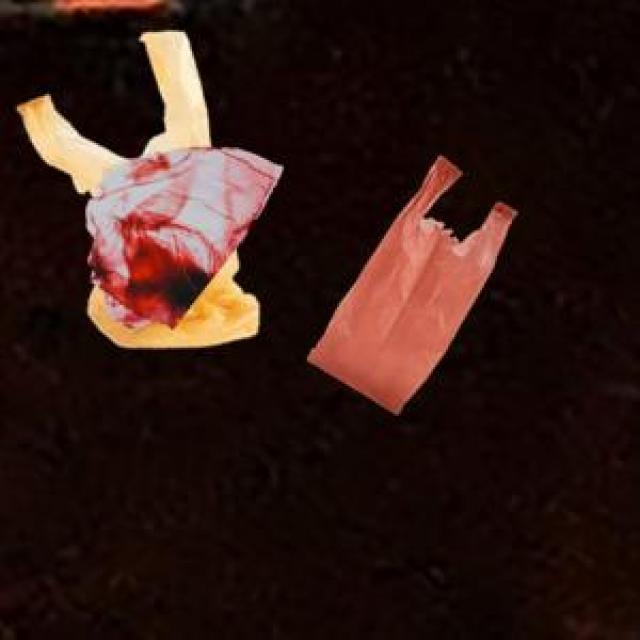waste: (18, 31, 282, 348), (308, 158, 516, 413)
